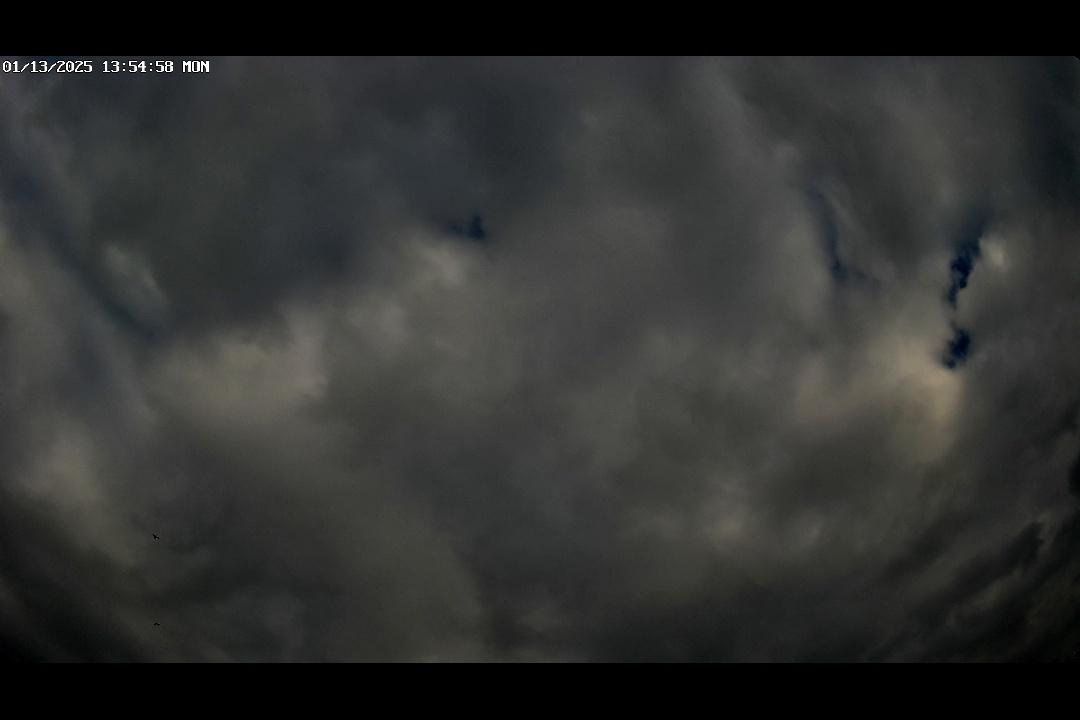WildLife: (137, 528, 176, 542), (146, 616, 169, 630)
